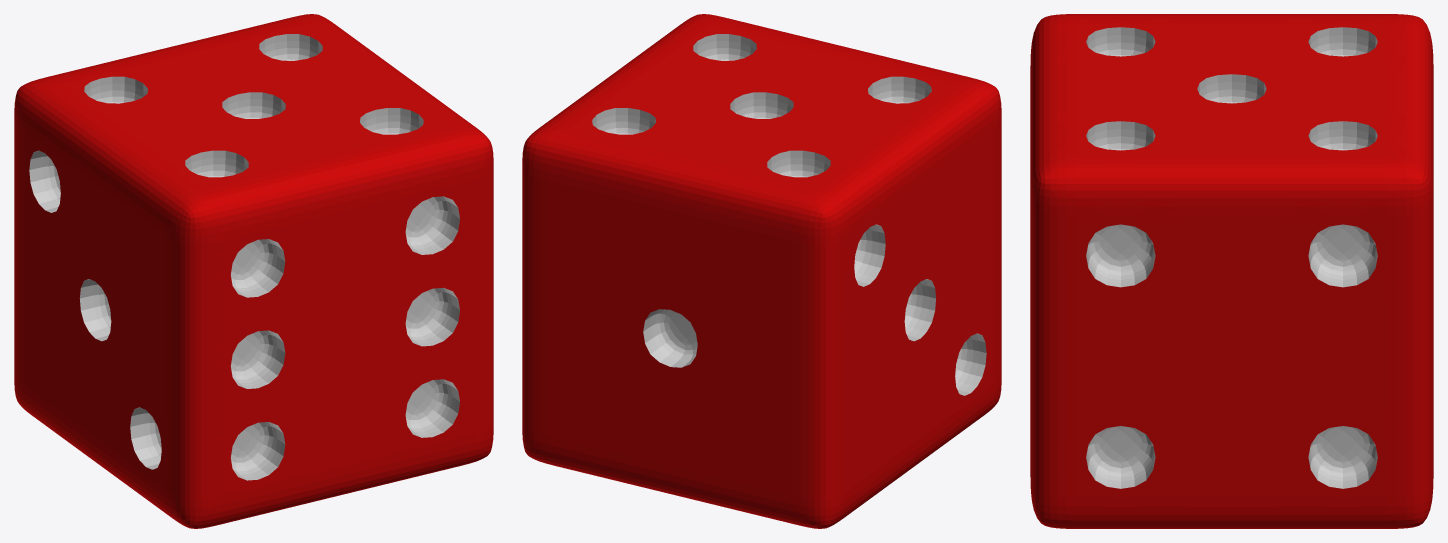
File: die4.obj
3 renders of one model, left to right at view 1: azimuth 30°, elevation 25°; view 2: azimuth 150°, elevation 25°; view 3: azimuth 270°, elevation 25°, orthographic. The views are drawn at different scales.
Parts seen in each view (by area): view 1: Cube; view 2: Cube; view 3: Cube.
Boxes of the visible parts, x1,y1,x2,y2 form: Cube: (14, 14, 493, 528); Cube: (522, 14, 1001, 528); Cube: (1030, 14, 1433, 528).
Bounding box in the file's own units: 2 × 2 × 2.
